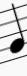note: (6, 2, 25, 62)
